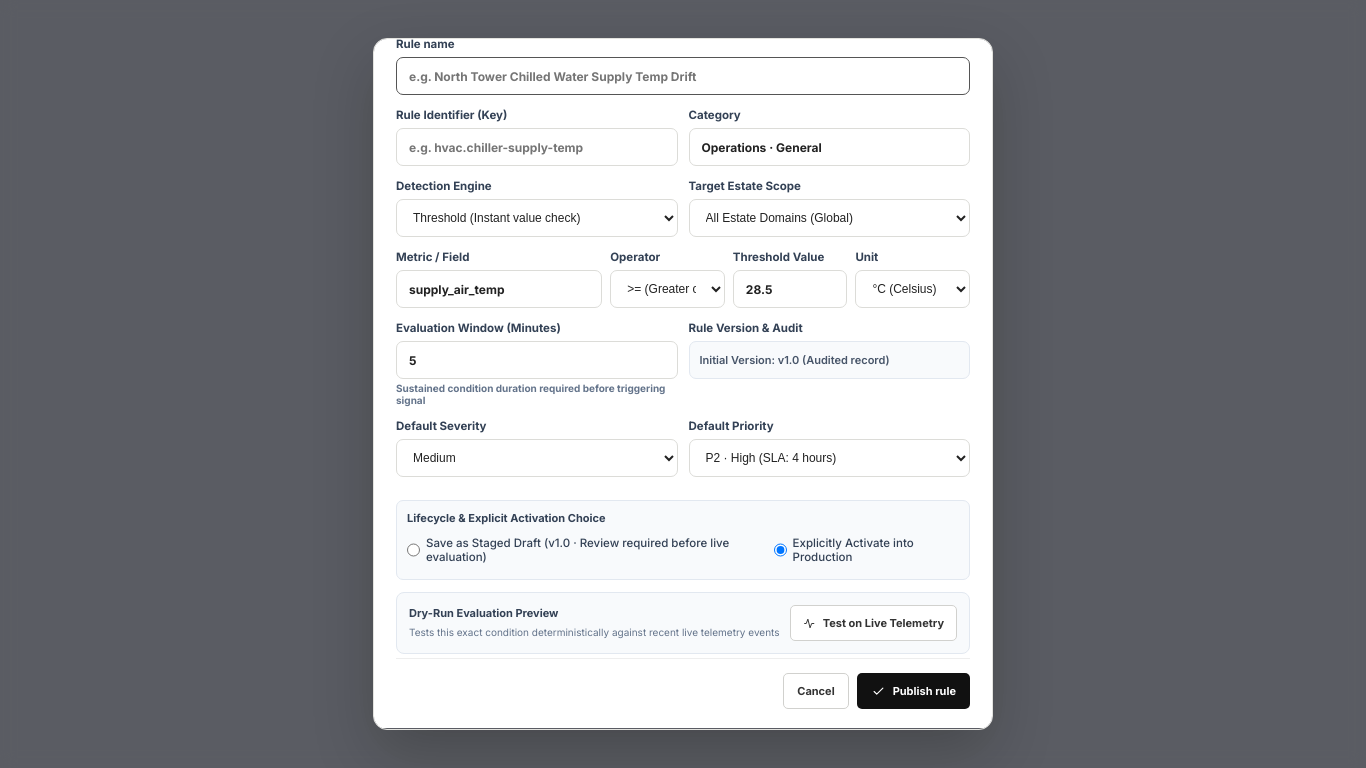
RecordDialog - Rule Condition Builder & AI Draft › runs dry-run preview and displays matching telemetry results
The width and height of the screenshot is (1366, 768).
(page scrolled)
Click the button "Test on Live Telemetry" at (873, 623), box [790, 605, 957, 641]
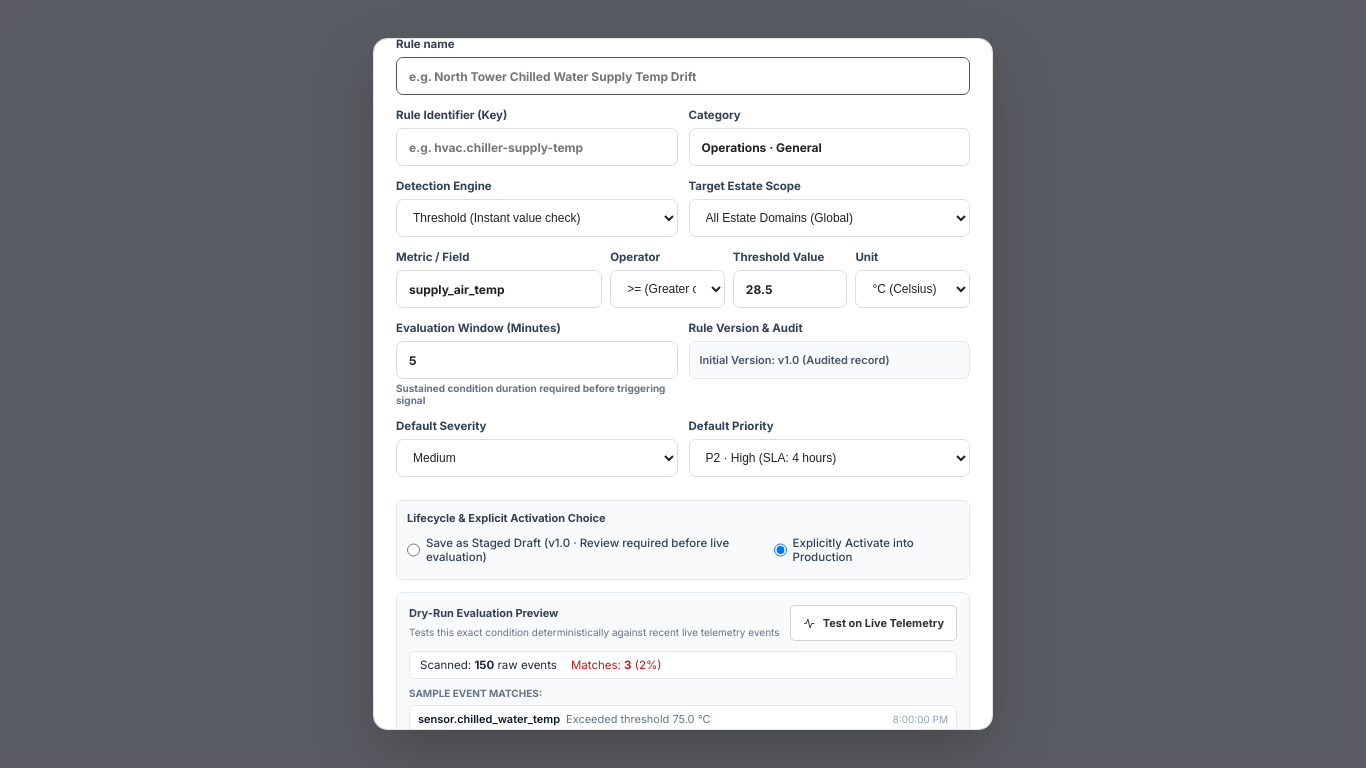
Result: the text "150" is shown at [474, 658, 494, 672]
Result: the text "3" is shown at [624, 658, 632, 672]
Result: the text "Exceeded threshold 75.0 °C" is shown at [566, 712, 710, 726]
